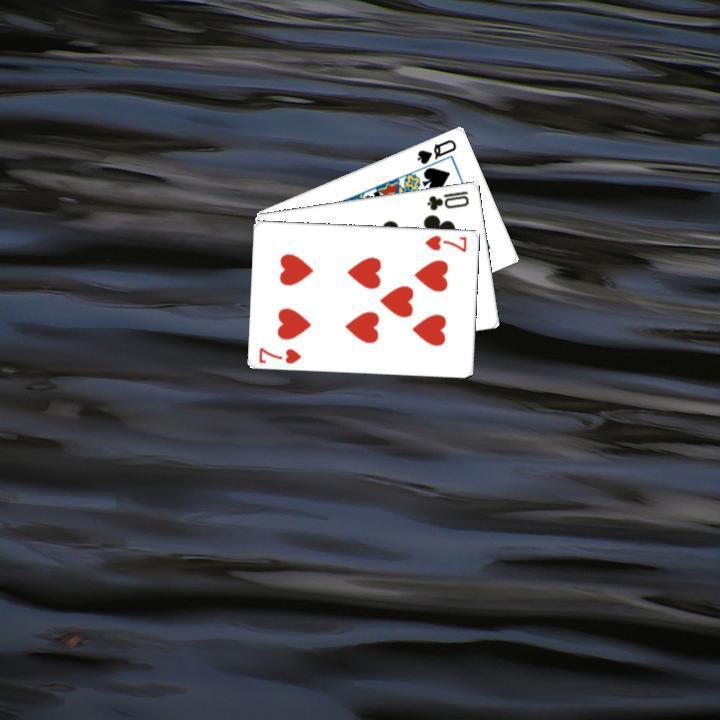10: (423, 186, 471, 212)
7: (421, 231, 469, 254), (255, 343, 303, 366)
Q: (412, 135, 459, 166)
